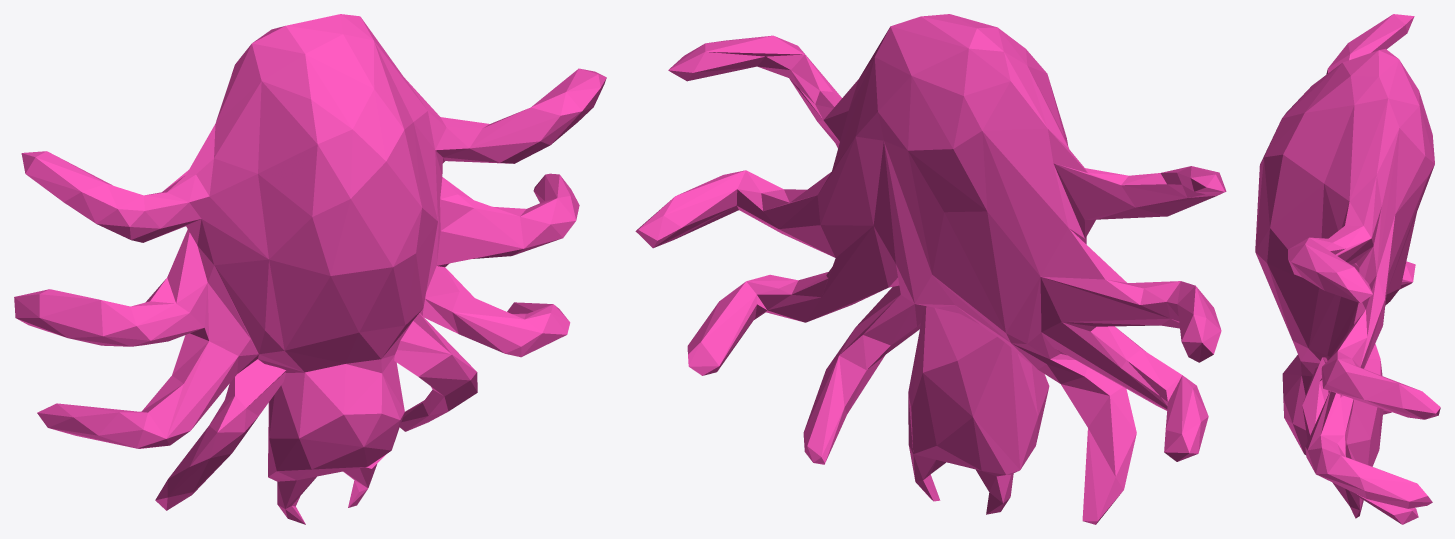
Rendered from aranya2_000017.obj.
3 renders of one model, left to right at view 1: azimuth 30°, elevation 25°; view 2: azimuth 150°, elevation 25°; view 3: azimuth 270°, elevation 25°, orthographic. The views are drawn at different scales.
Parts seen in each view (by area): view 1: Cube; view 2: Cube; view 3: Cube.
Part boxes in pixels (bbox=[...]): Cube: bbox=[14, 14, 606, 524]; Cube: bbox=[635, 14, 1226, 524]; Cube: bbox=[1255, 14, 1440, 524].
Bounding box in the file's own units: 20.5 × 17.08 × 6.44.
Materials: 1 (1 with a texture image).
